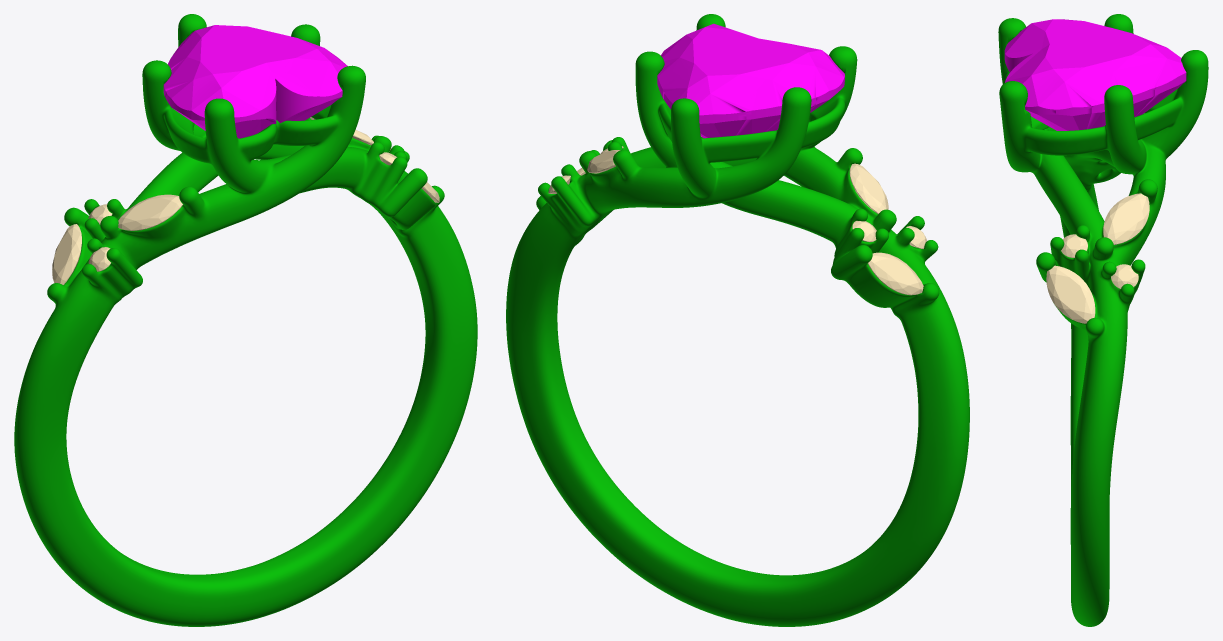
Rendered from BE1D8164_HT_200ct_RENDER.glb.
The picture shows the model from 3 angles, left to right: view 1: azimuth 30°, elevation 25°; view 2: azimuth 150°, elevation 25°; view 3: azimuth 270°, elevation 25°; orthographic projection. The views are drawn at different scales.
Parts seen in each view (by area): view 1: Metal 01, CS_Diamond_Heart, Diamond_Marquise_Gem_SH.002, Diamond_Marquise_Gem_SH.003; view 2: Metal 01, CS_Diamond_Heart, Diamond_Marquise_Gem_SH.003, Diamond_Marquise_Gem_SH.002; view 3: Metal 01, CS_Diamond_Heart, Diamond_Marquise_Gem_SH, Diamond_Marquise_Gem_SH.001, Diamond_Round_Gem_SH.001, Diamond_Round_Gem_SH.
Boxes of the visible parts, box(x1,y1,x2,y2) form: Metal 01: box(14, 14, 477, 626); CS_Diamond_Heart: box(163, 25, 347, 138); Diamond_Marquise_Gem_SH.002: box(118, 194, 182, 230); Diamond_Marquise_Gem_SH.003: box(52, 224, 81, 284); Metal 01: box(506, 14, 969, 626); CS_Diamond_Heart: box(657, 23, 844, 138); Diamond_Marquise_Gem_SH.003: box(867, 252, 923, 295); Diamond_Marquise_Gem_SH.002: box(849, 163, 888, 213); Metal 01: box(998, 14, 1208, 626); CS_Diamond_Heart: box(1004, 19, 1186, 130); Diamond_Marquise_Gem_SH: box(1046, 265, 1095, 323); Diamond_Marquise_Gem_SH.001: box(1103, 193, 1149, 244); Diamond_Round_Gem_SH.001: box(1111, 264, 1138, 288); Diamond_Round_Gem_SH: box(1061, 234, 1087, 257).
Bounding box in the file's own units: 20.49 × 24.3 × 8.29.
